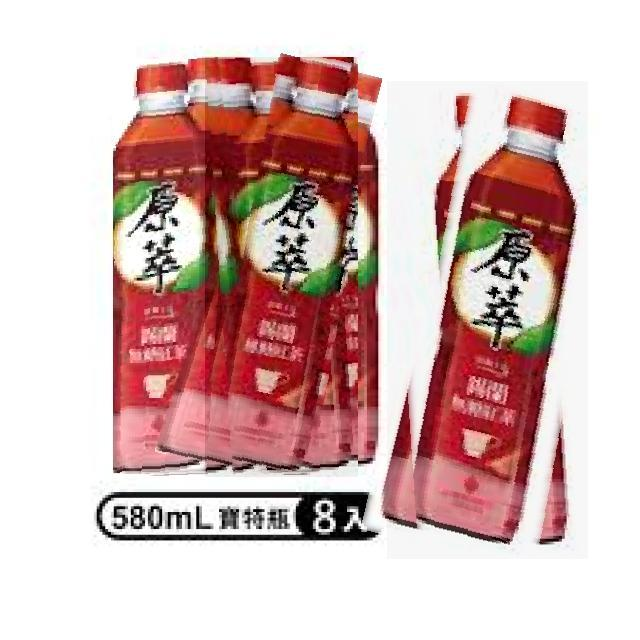YuanTsui_BlackTea: (387, 81, 588, 559), (205, 57, 358, 477), (113, 59, 234, 478)
